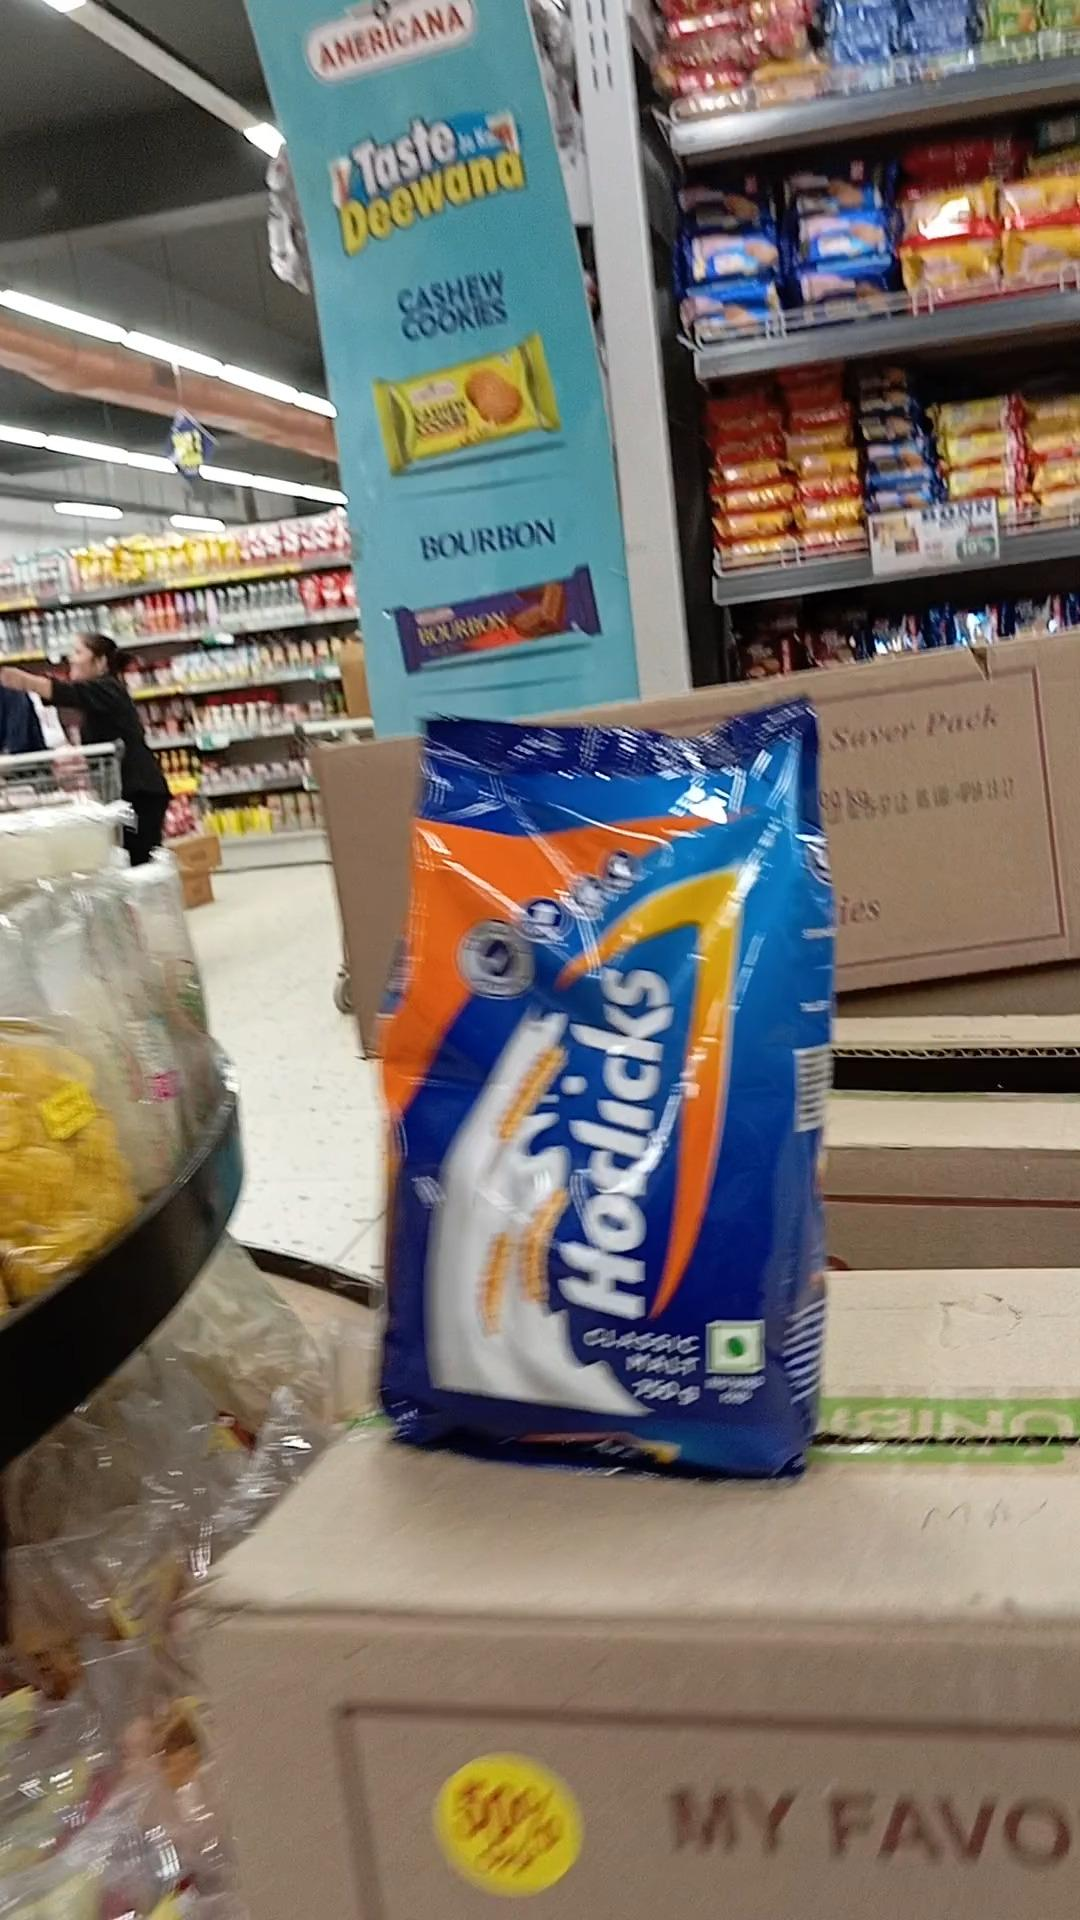HORLICK_CLASSIC_MALT_750_G_POUCH: (390, 690, 812, 1473)
